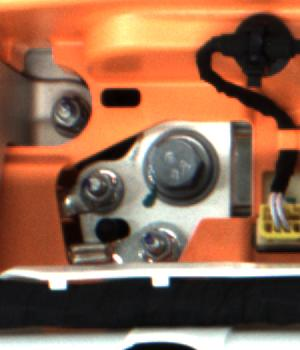nut_b: (139, 126, 231, 212)
screw_s: (130, 226, 175, 266), (79, 167, 121, 207), (47, 91, 84, 133)
